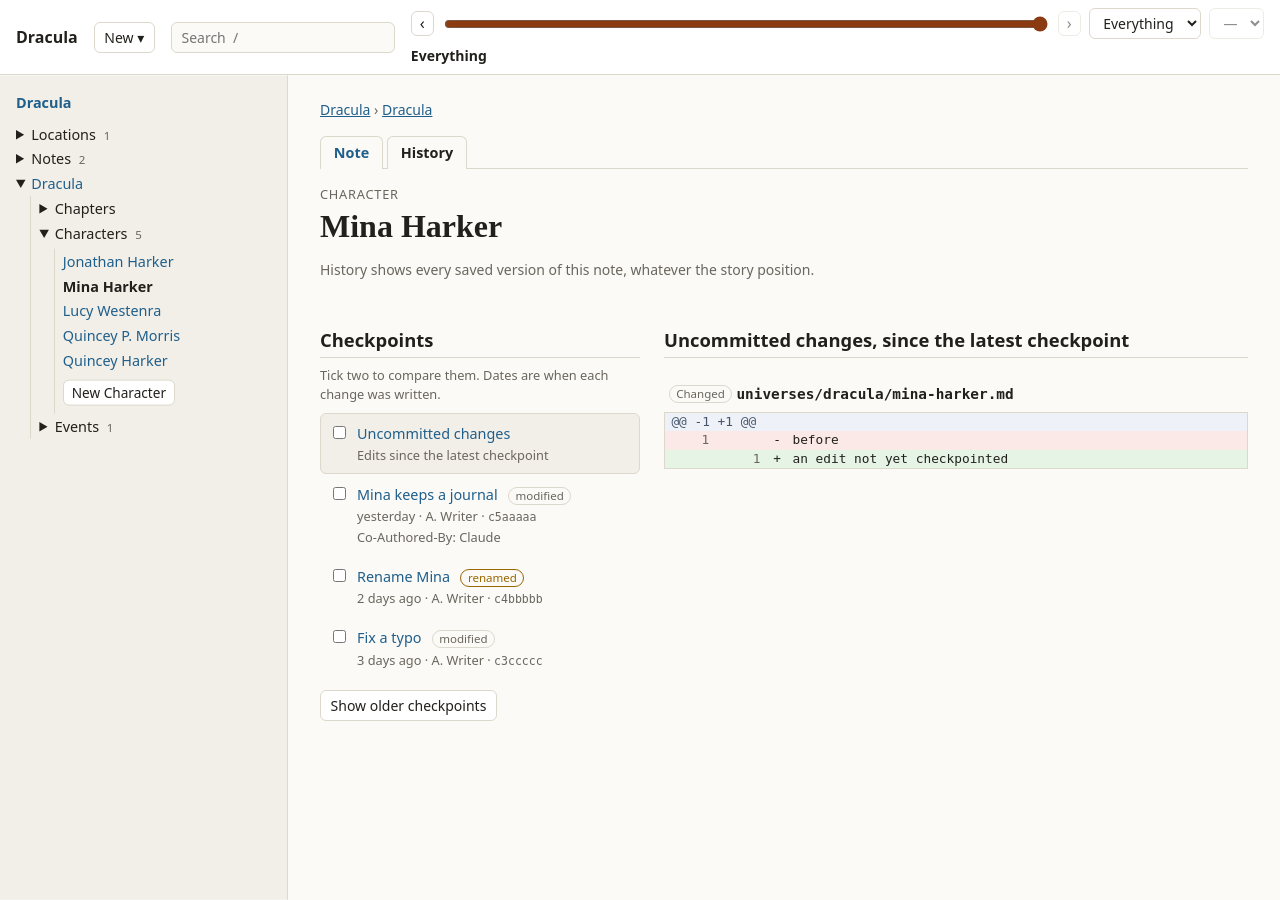
Scenario: SC-WEB-23: I look at a note’s history in the browser › compares a checkpoint with the note as it is now: from alone
Click the checkbox named "Compare Rename Mina (c4bbbbb)". click: x=340, y=575
box: [333,569,346,582]
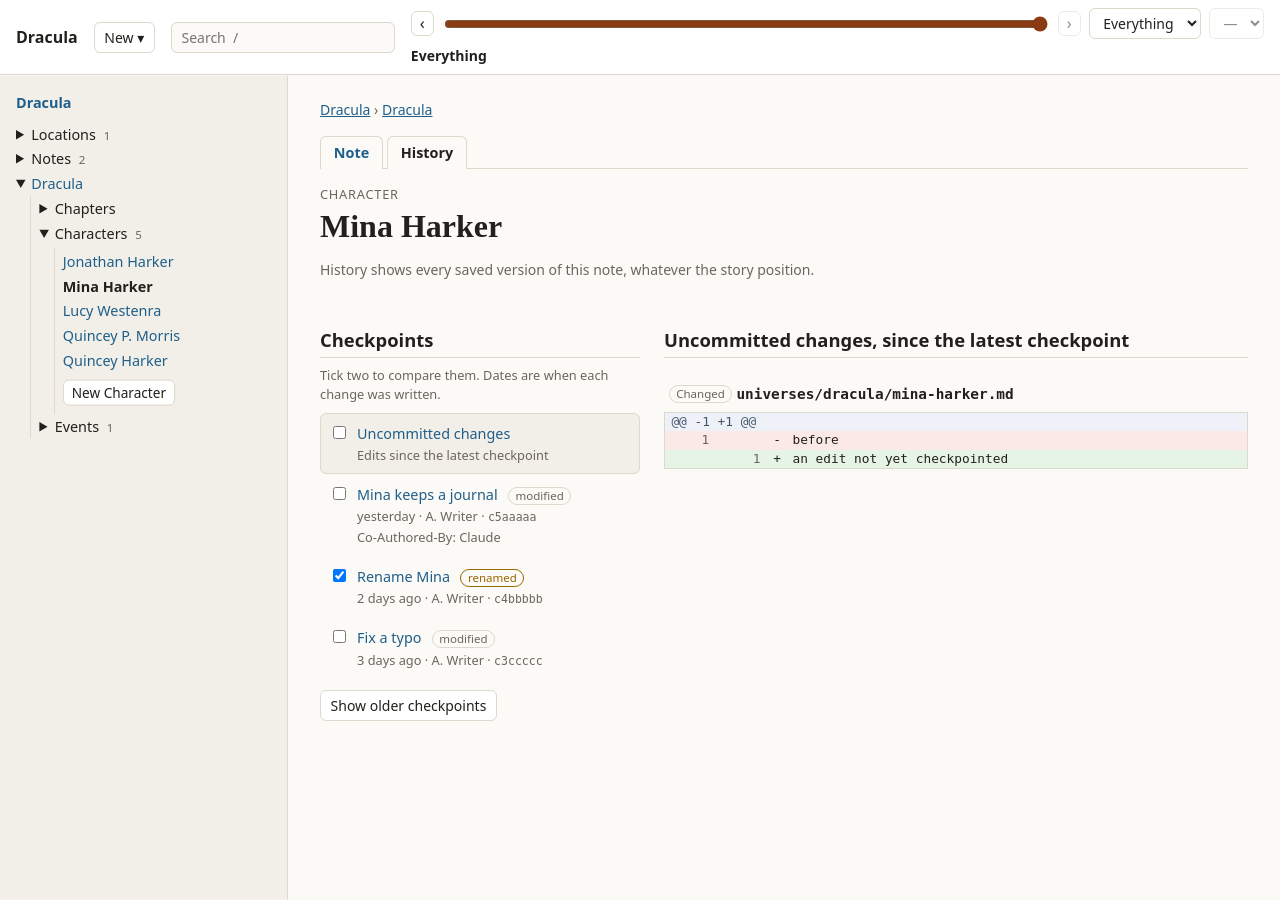
Click the checkbox named "Compare the note as it is now". click: x=340, y=432
box: [333,426,346,438]
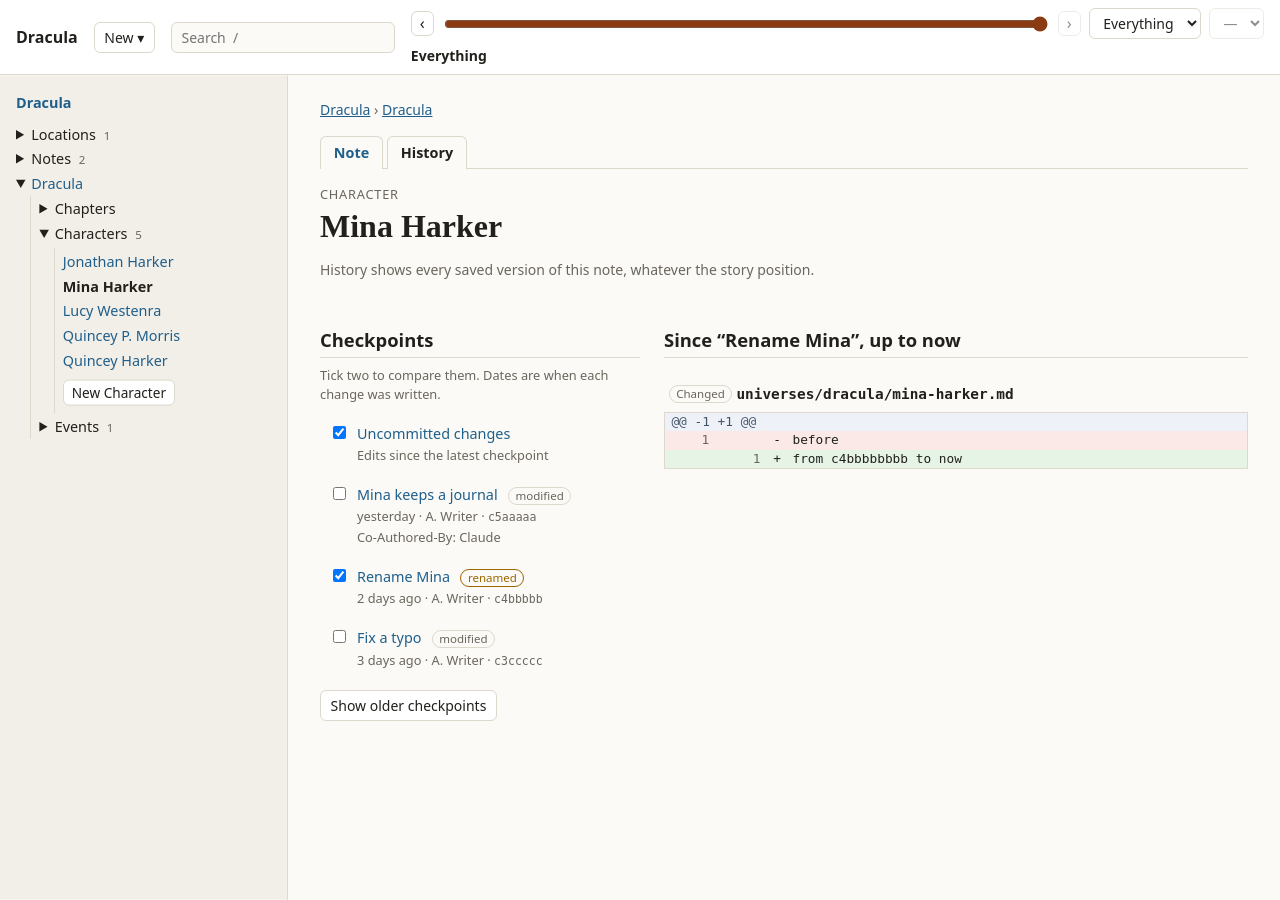
Expected: the text "from c4bbbbbbbb to now" is shown, [786,450,1248,469]
